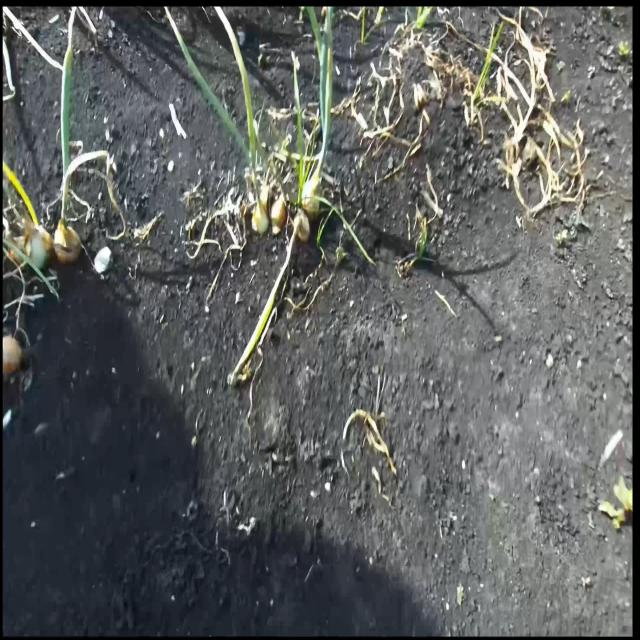onion: (53, 218, 81, 265)
